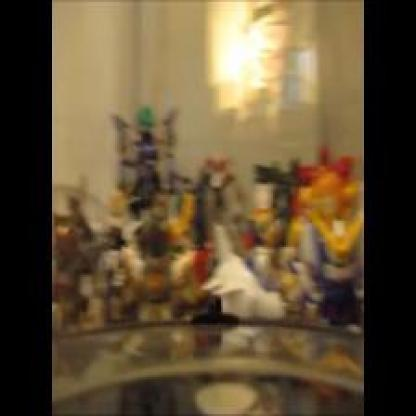other: (201, 11, 285, 92)
